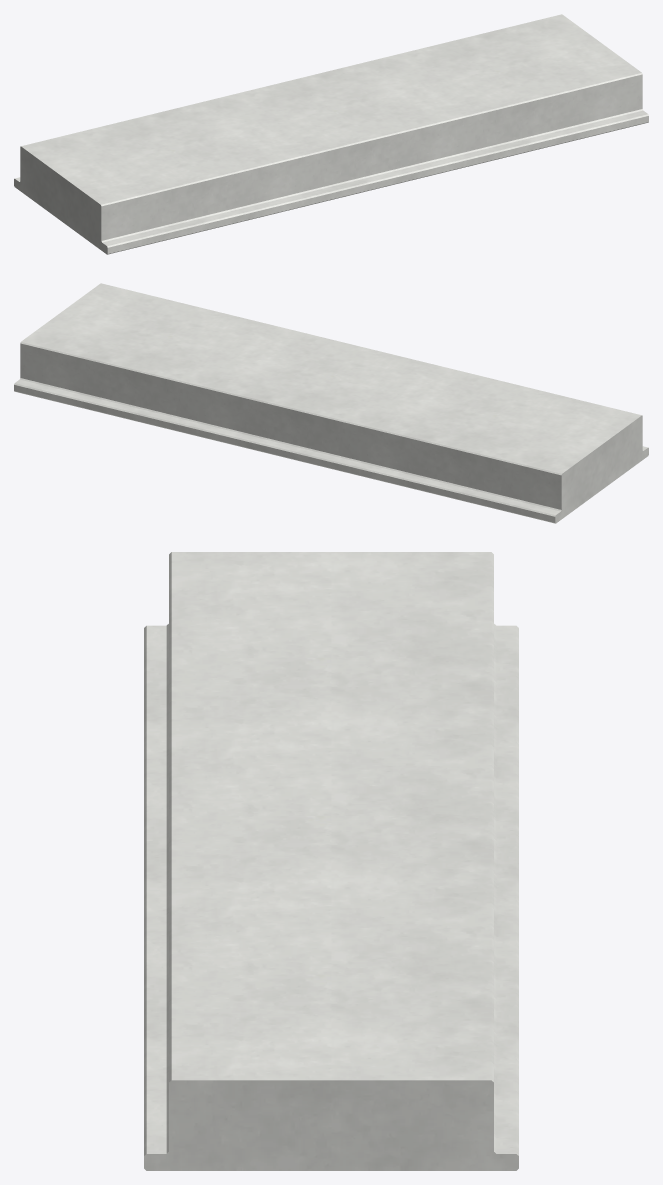
File: EST-LAJ-003.glb
3 renders of one model, top to bottom at view 1: azimuth 30°, elevation 25°; view 2: azimuth 150°, elevation 25°; view 3: azimuth 270°, elevation 25°, orthographic. The views are drawn at different scales.
Parts seen in each view (by area): view 1: EST-LAJ-003_eps; view 2: EST-LAJ-003_eps; view 3: EST-LAJ-003_eps.
Boxes of the visible parts, box(x1,y1,x2,y2) form: EST-LAJ-003_eps: box(14, 14, 648, 254); EST-LAJ-003_eps: box(14, 283, 648, 523); EST-LAJ-003_eps: box(144, 552, 518, 1170).
Bounding box in the file's own units: 1 × 0.08 × 0.3.
1 material, 1 textured.
